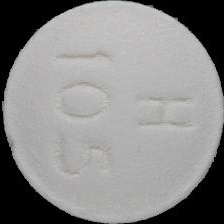10544-043: (0, 0, 224, 224)
